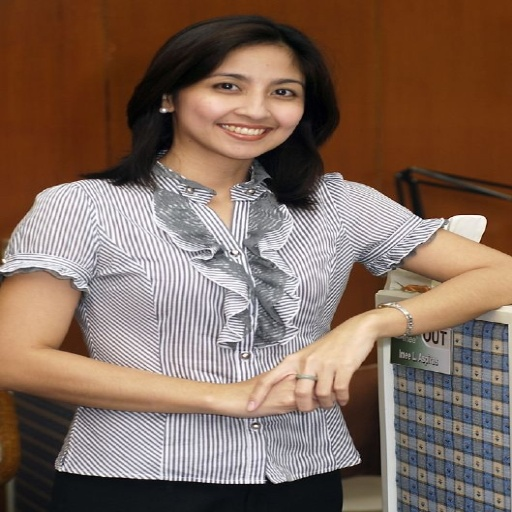hand: (273, 320, 376, 426), (231, 366, 335, 419)
